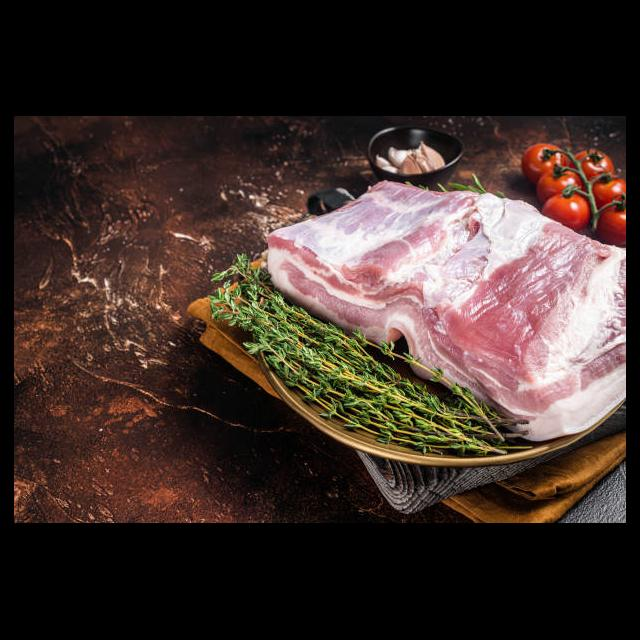pork: (276, 183, 512, 335), (489, 230, 626, 440)
tomato: (542, 193, 590, 227), (520, 143, 562, 171), (537, 170, 582, 193), (591, 175, 625, 203)
